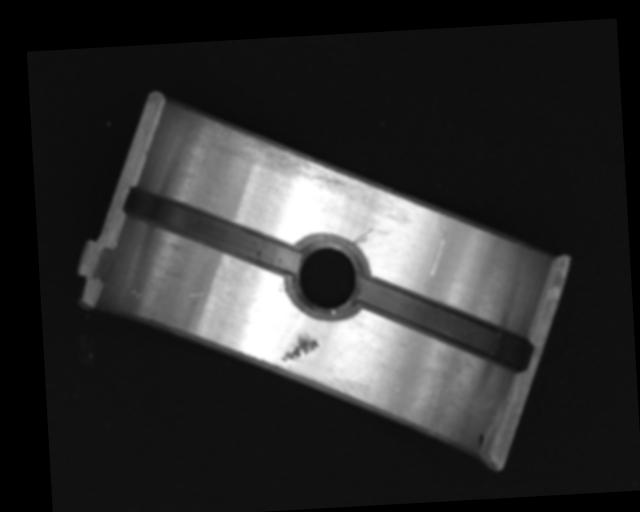blot: (477, 432, 484, 449)
bruise: (278, 332, 319, 361), (186, 288, 209, 298)
gap: (359, 269, 531, 377), (122, 179, 297, 279)
hole: (287, 233, 370, 323)
nick: (417, 210, 449, 286), (351, 228, 374, 245)
scratch: (211, 111, 378, 209)
